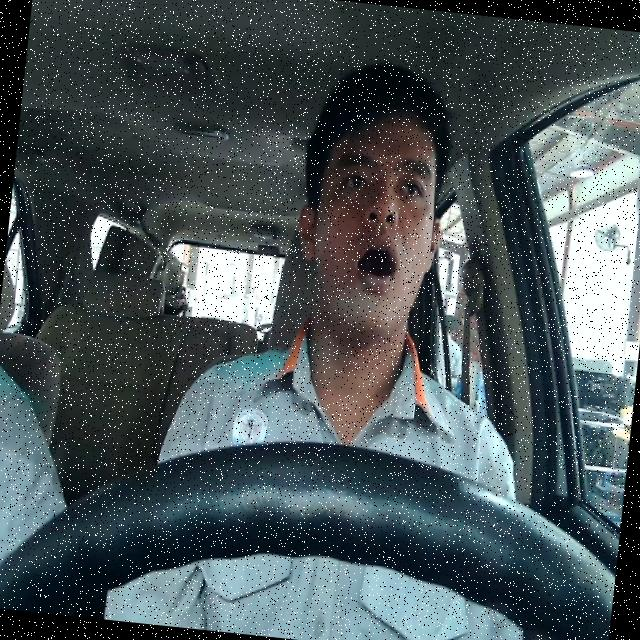yarning: (284, 94, 454, 343)
